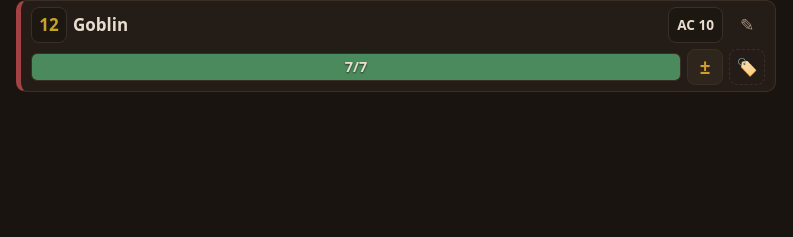
Test: CreatureRow editing › saves edits and closes the panel
Step 1. Click the button named "edit goblin" → [747, 25], box x1=729 y1=7 x2=765 y2=43
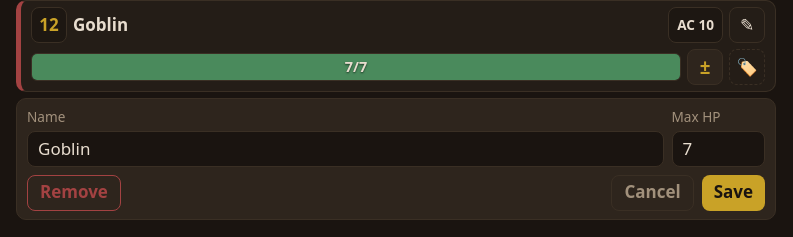
Step 2. Replace the text in the field labelled "Name" with "Goblin boss" → [345, 149], box x1=27 y1=131 x2=664 y2=167
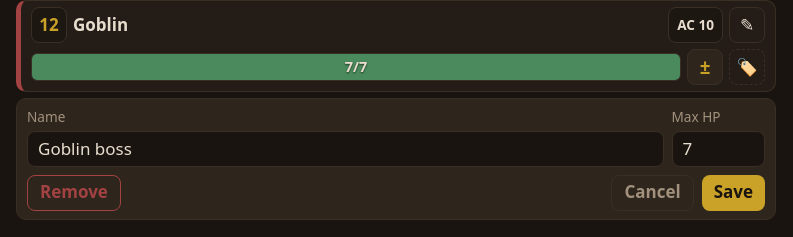
Step 3. Click the button "Save" → [733, 193], box x1=702 y1=175 x2=765 y2=211
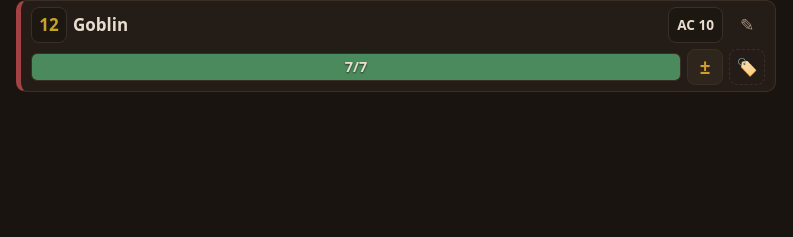
Result: the text labelled "Max HP" is gone
